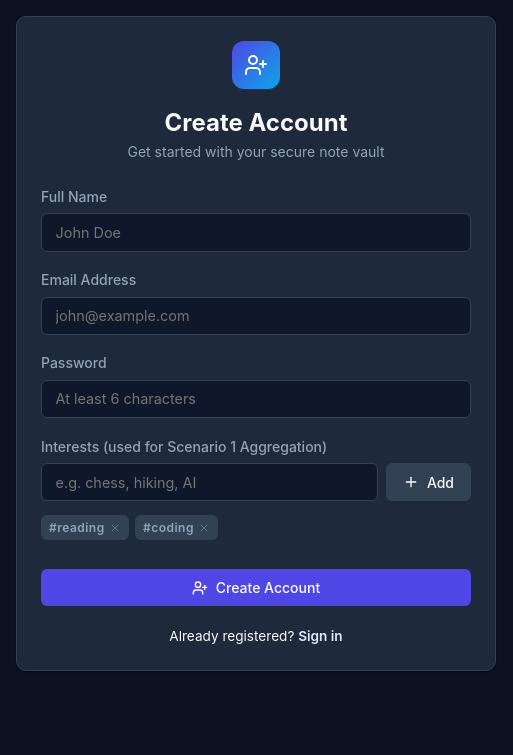
RegisterPage Component › should display error alert when registration fails
Type "Alice Smith" into the field with placeholder "John Doe" at [256, 232], box [41, 213, 471, 252]
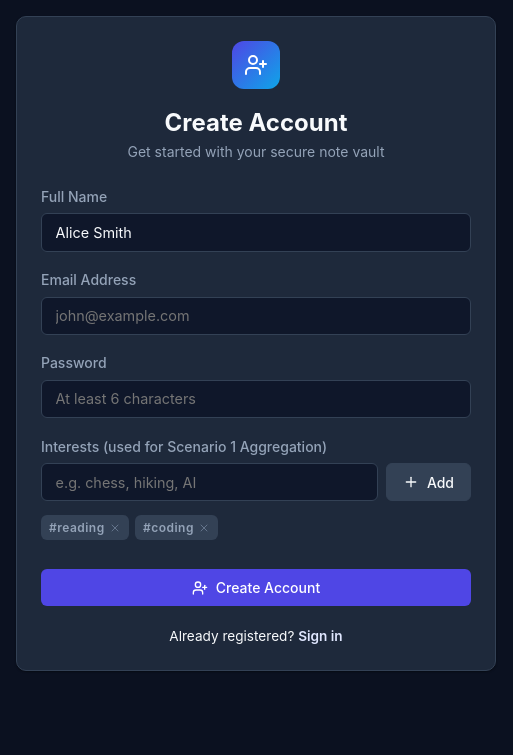
Type "alice@test.com" into the field with placeholder "john@example.com" at [256, 316], box [41, 297, 471, 335]
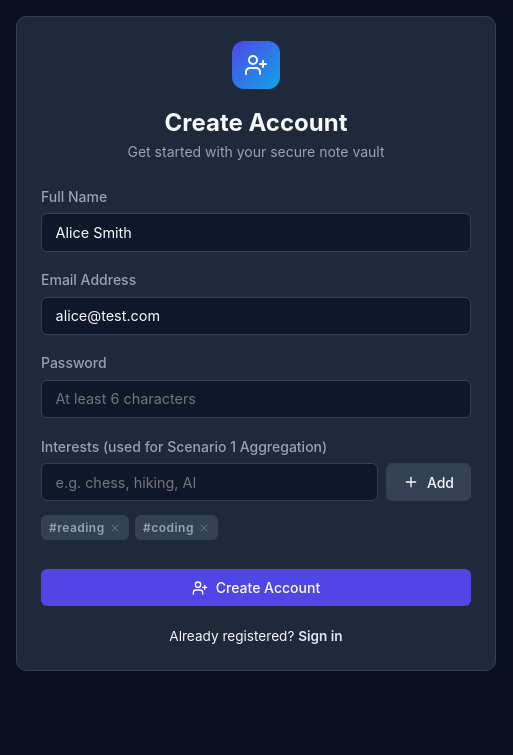
Type "secret123" into the password field with placeholder "At least 6 characters" at [256, 399], box [41, 380, 471, 418]
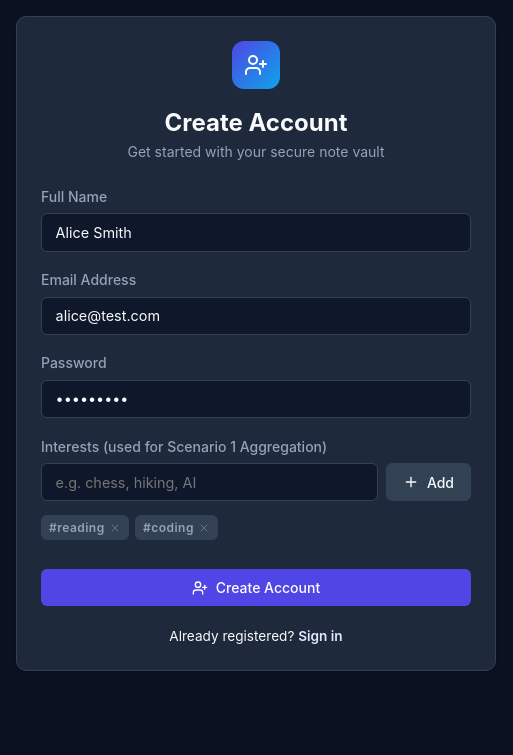
Click the button "Create Account" at [256, 588], box [41, 570, 471, 606]
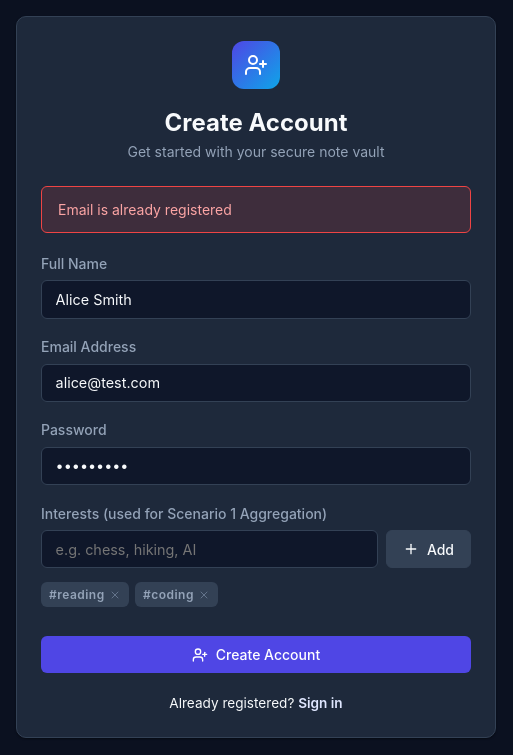
Check: the text "Email is already registered" is shown, box [41, 186, 471, 233]
